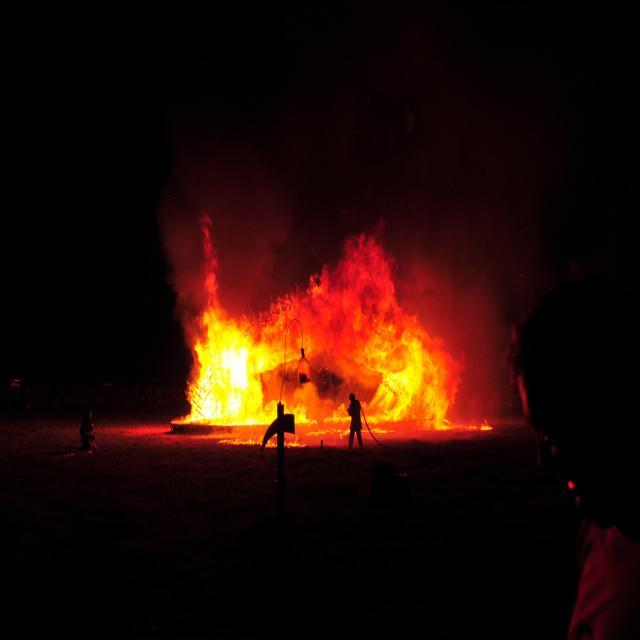Fire: (368, 331, 444, 425), (199, 334, 255, 428)
